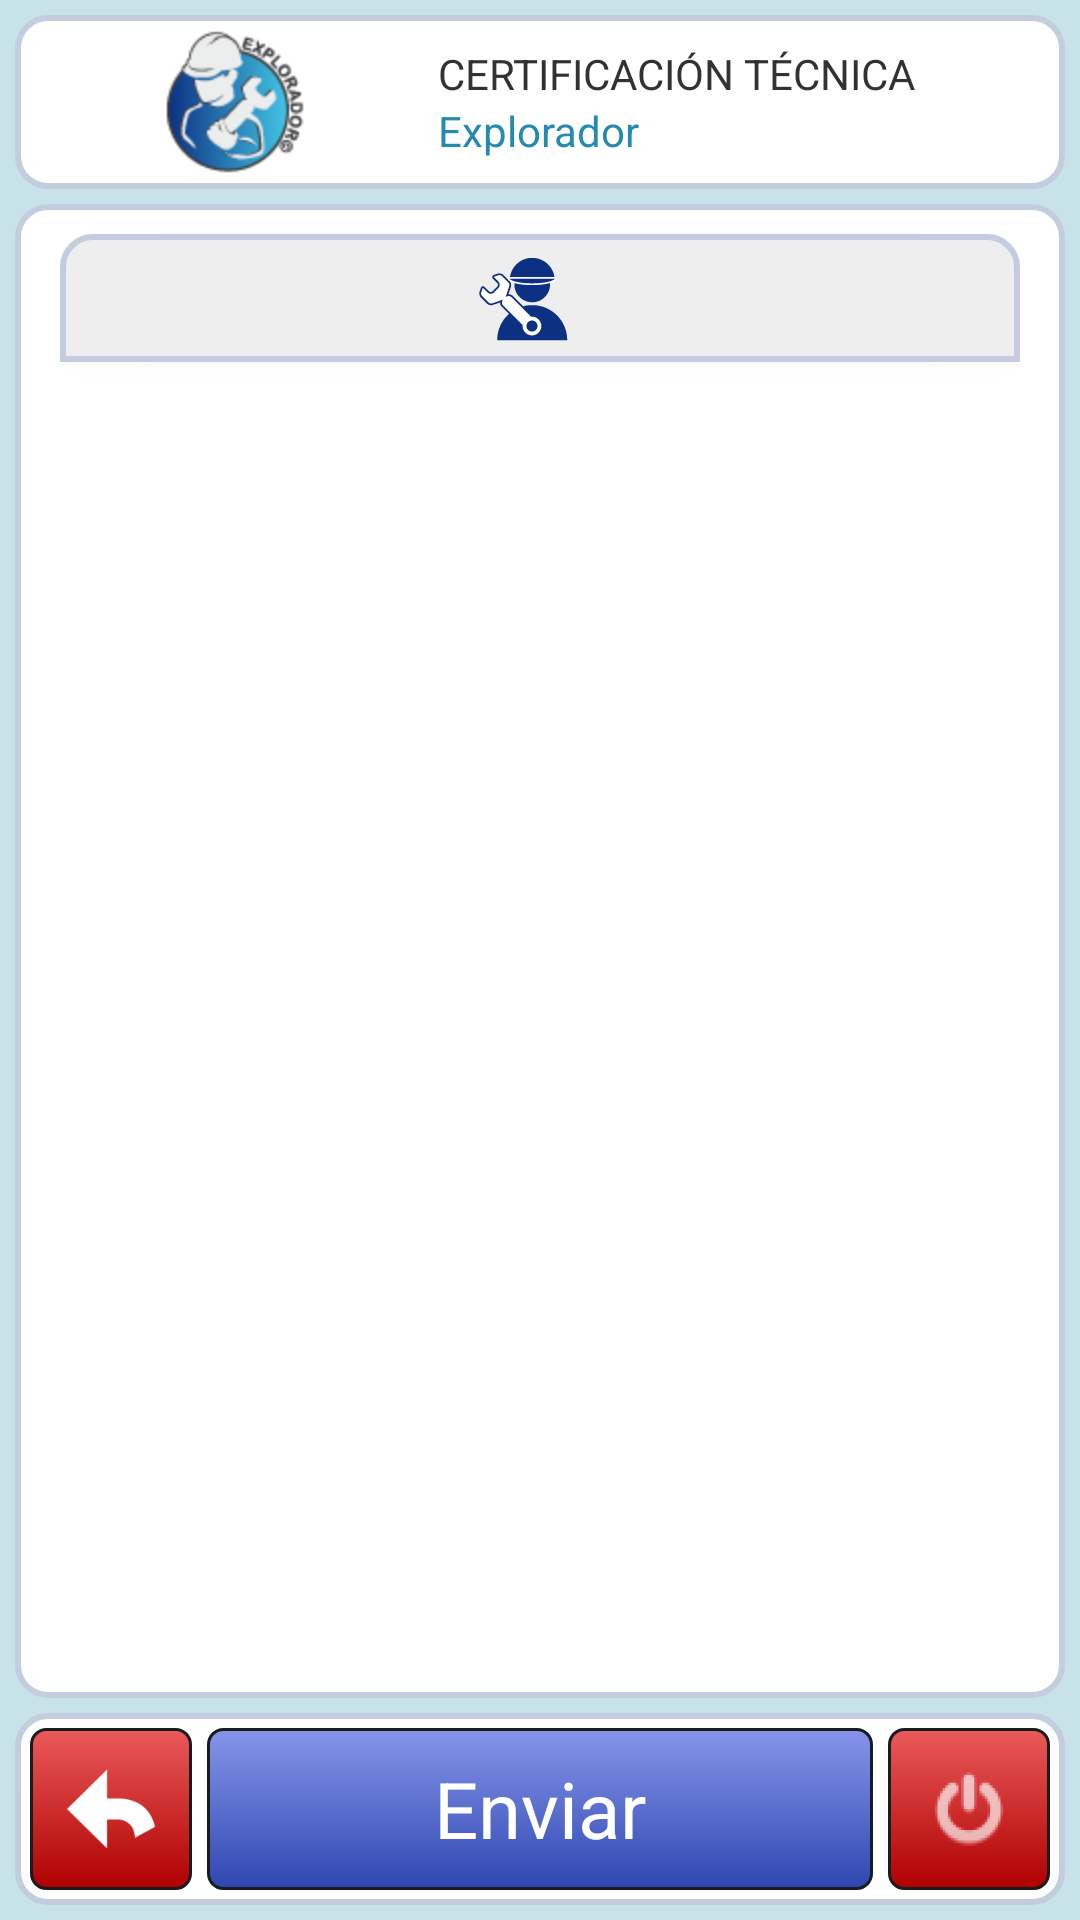

Point at icon controls on the screen. Image size 1080px×1920px, points as point (x, y).
back: point (111, 1809)
shutdown: point (969, 1809)
